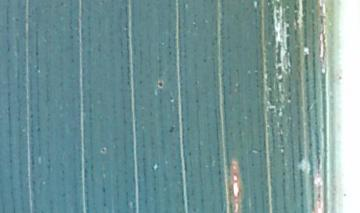tarspot: (168, 126, 176, 134), (157, 80, 164, 89)
